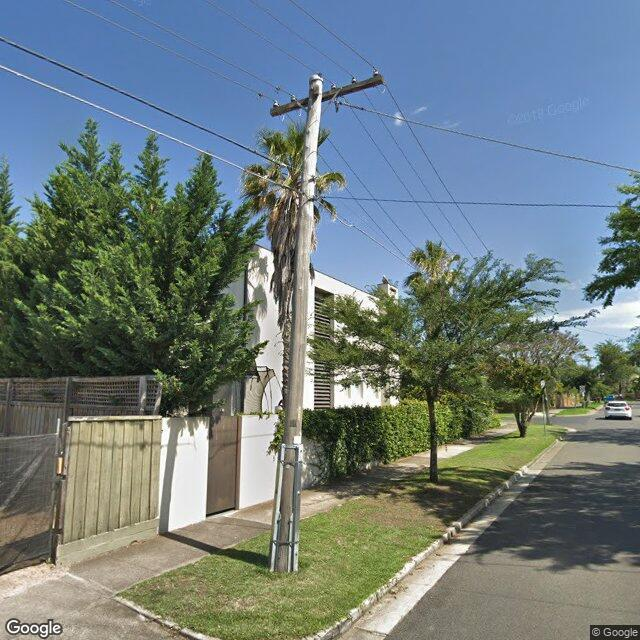crossarm: (270, 74, 384, 117)
timber-pole: (274, 74, 324, 573)
